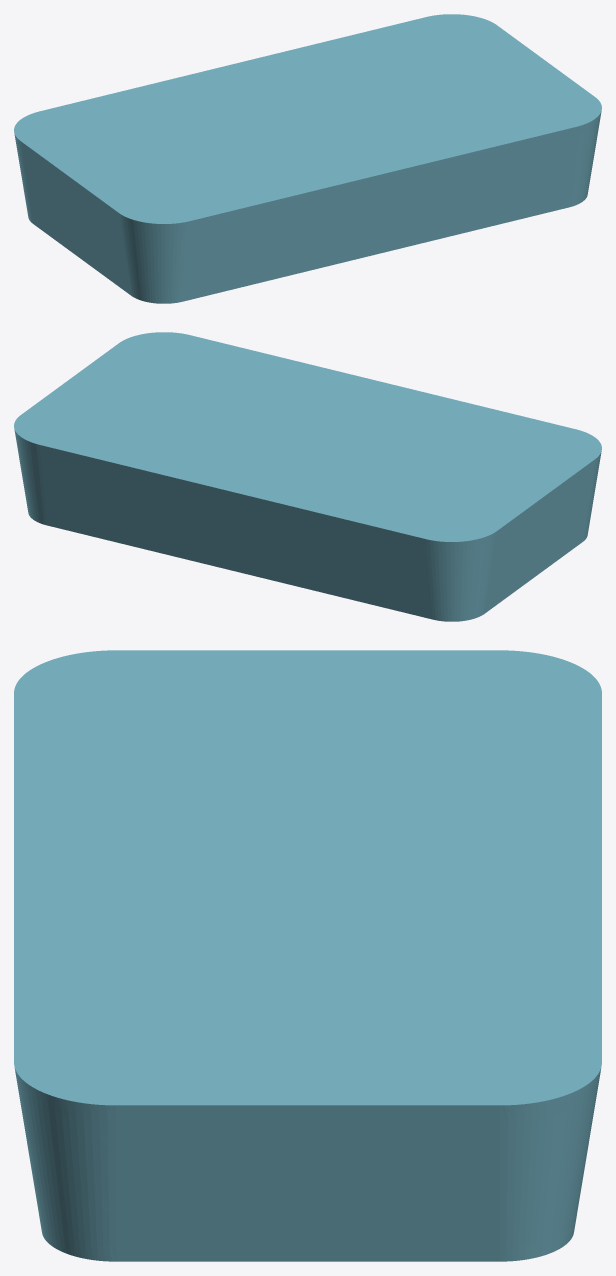
File: part-solder-drip-tray-liner__v12__vase-filled__print.glb
The picture shows the model from 3 angles, top to bottom: view 1: azimuth 30°, elevation 25°; view 2: azimuth 150°, elevation 25°; view 3: azimuth 270°, elevation 25°; orthographic projection. The views are drawn at different scales.
Parts seen in each view (by area): view 1: part-solder-drip-tray-liner__v12__vase-filled__print-vase.st; view 2: part-solder-drip-tray-liner__v12__vase-filled__print-vase.st; view 3: part-solder-drip-tray-liner__v12__vase-filled__print-vase.st.
Part boxes in pixels (left/top/right/bottom): part-solder-drip-tray-liner__v12__vase-filled__print-vase.st: left=14, top=14, right=601, bottom=303; part-solder-drip-tray-liner__v12__vase-filled__print-vase.st: left=14, top=332, right=601, bottom=621; part-solder-drip-tray-liner__v12__vase-filled__print-vase.st: left=14, top=650, right=601, bottom=1261.
Bounding box in the file's own units: 0.1162 × 0.02 × 0.0635.
